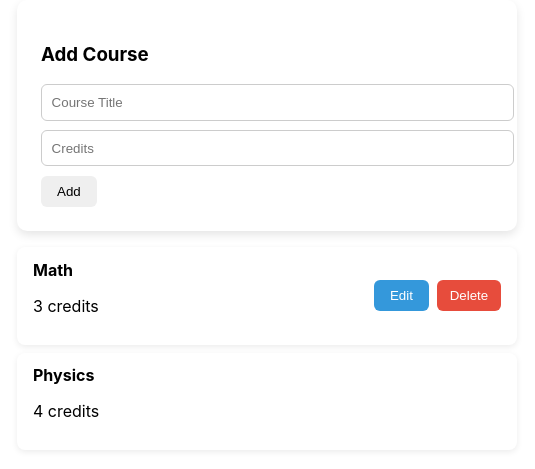
CourseForm component › populates form when edit is clicked
expect the text "Math" is shown: met, box [33,260,73,280]
Step 1. Click the button "Edit" → (401, 296), box [374,280,429,311]
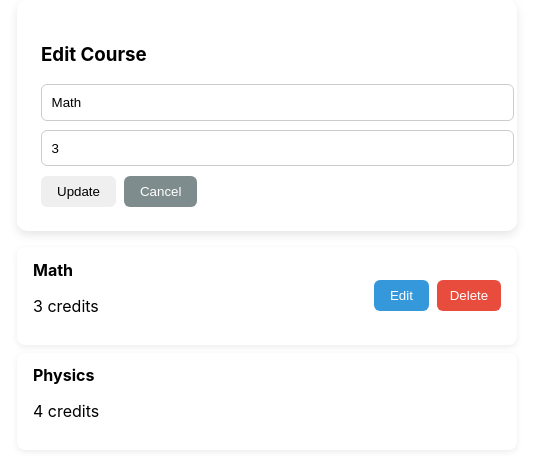
expect the field with placeholder "Course Title" holds "Math": met, box [41,84,514,121]
